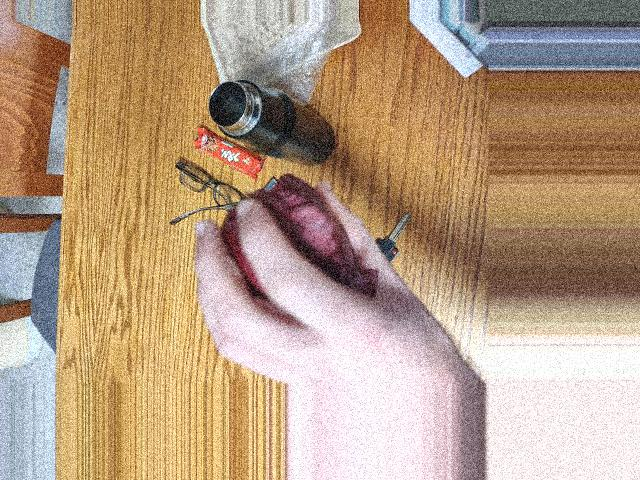onion: (215, 185, 339, 297)
